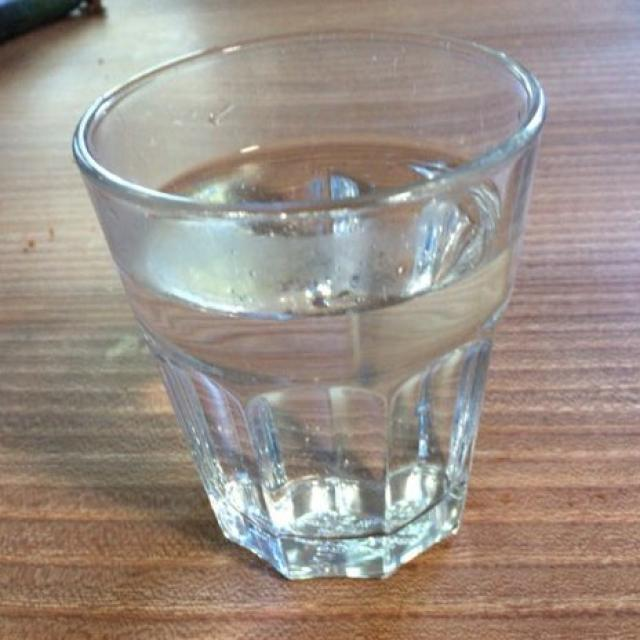water: (111, 141, 517, 534)
